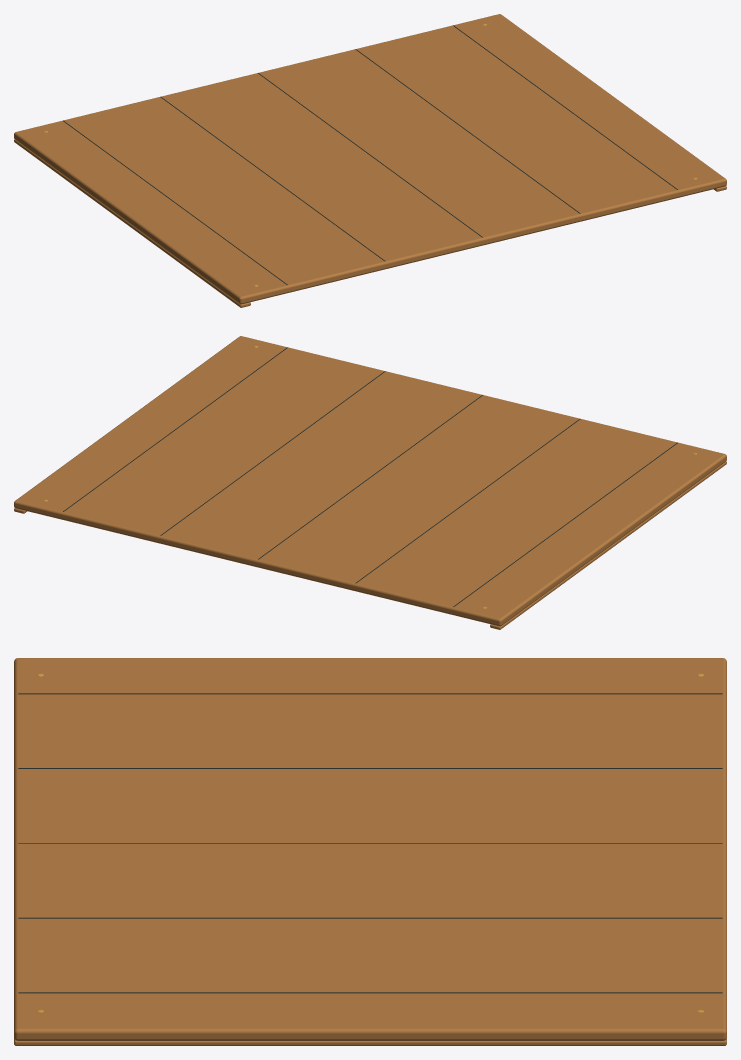
Rendered from chair-down-light.glb.
The picture shows the model from 3 angles, top to bottom: view 1: azimuth 30°, elevation 25°; view 2: azimuth 150°, elevation 25°; view 3: azimuth 270°, elevation 25°; orthographic projection. The views are drawn at different scales.
Visible parts, largest first — view 1: wood, dark; view 2: wood, dark; view 3: wood, dark.
Part boxes in pixels (bbox=[...]): wood: bbox=[14, 14, 726, 307]; dark: bbox=[63, 25, 677, 284]; wood: bbox=[14, 336, 726, 629]; dark: bbox=[63, 347, 677, 606]; wood: bbox=[14, 658, 726, 1045]; dark: bbox=[18, 693, 722, 993].
Bounding box in the file's own units: 10 × 0.221 × 8.07.
